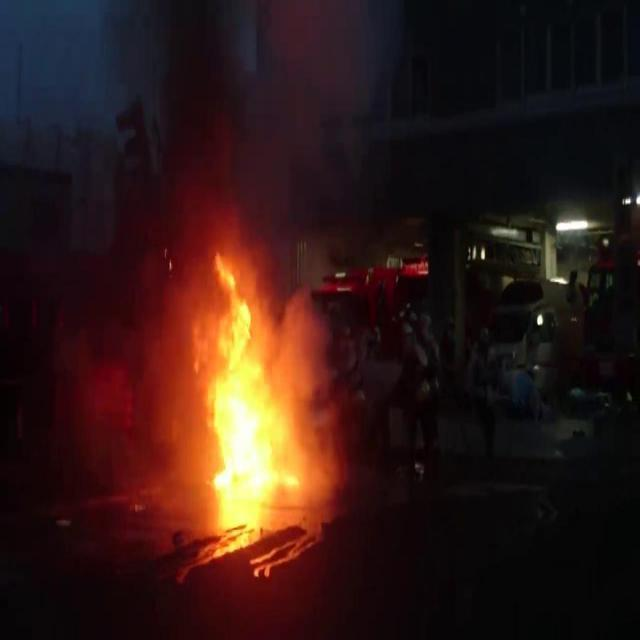Fire: (196, 262, 282, 530)
